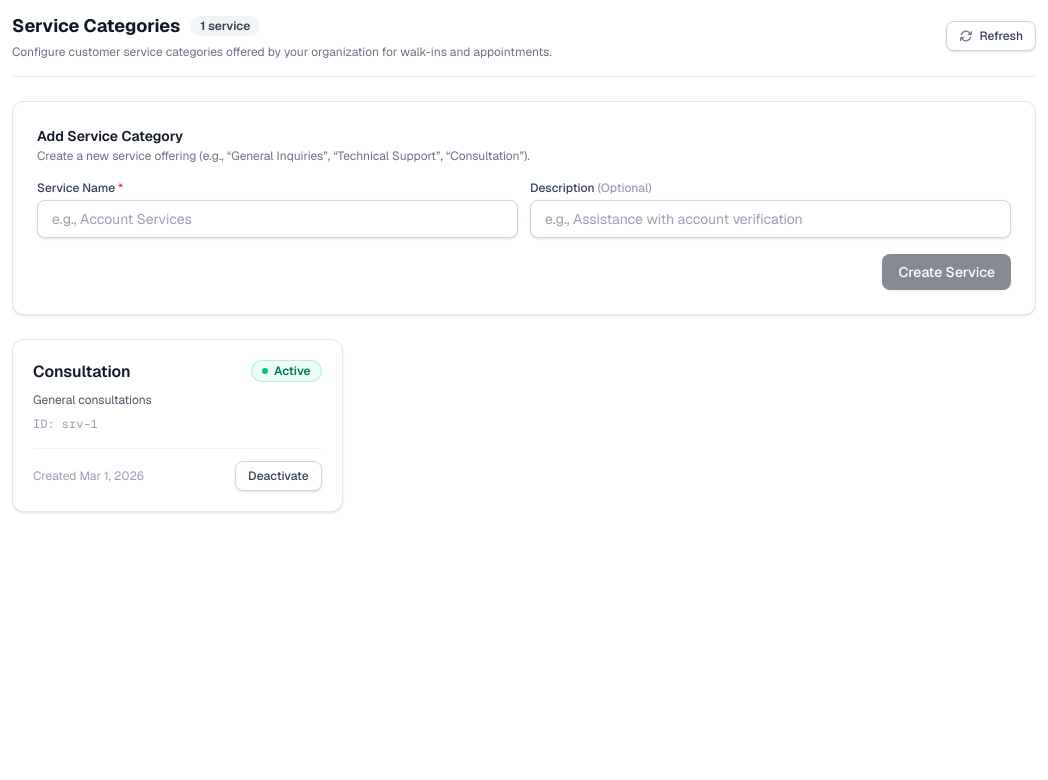
Scenario: components/admin/ServiceManagement › Service activation and deactivation controls › handles request failure without optimistic updates, keeping original status and displaying server error
The image size is (1048, 780).
Expected: the heading "Consultation" is shown, x1=33 y1=360 x2=131 y2=384
Expected: the text "Active" is shown, x1=251 y1=360 x2=322 y2=382
Click the button with aria-label "deactivate consultation" at [278, 476], box x1=235 y1=461 x2=322 y2=491
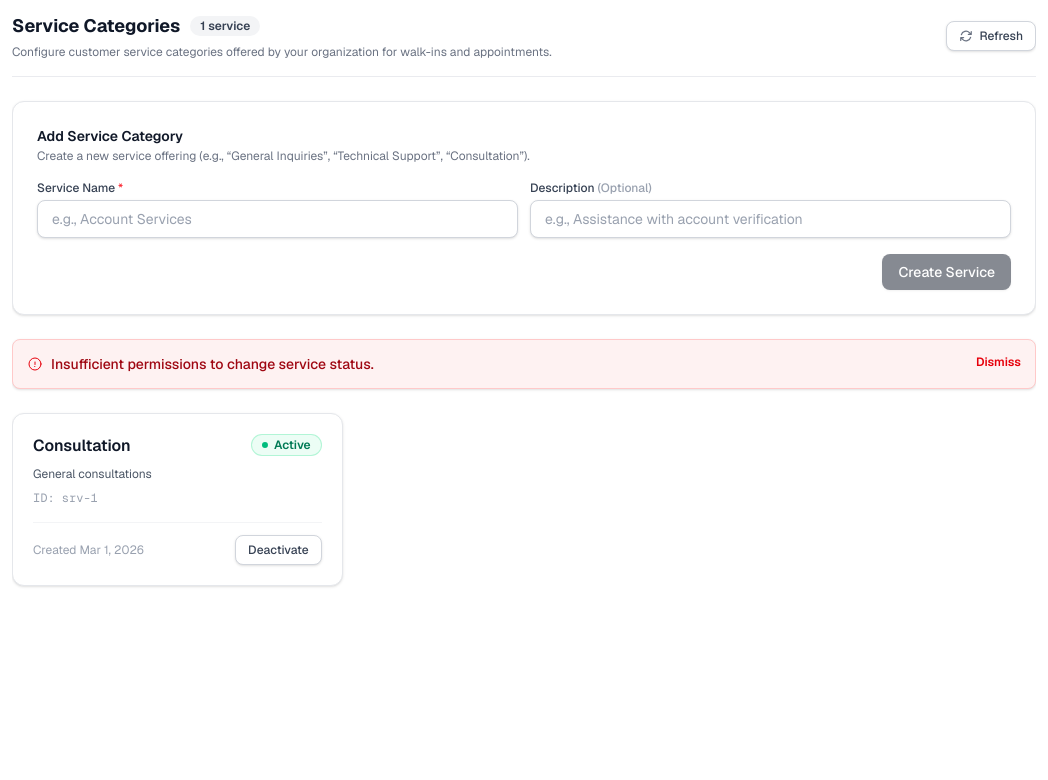
Expected: the text "Active" is shown, x1=251 y1=434 x2=322 y2=456
Expected: the text "Insufficient permissions to change service status." is shown, x1=51 y1=354 x2=374 y2=374
# Dismiss button clears the error alert
Click the button "Dismiss" at [998, 362], box x1=976 y1=354 x2=1021 y2=370
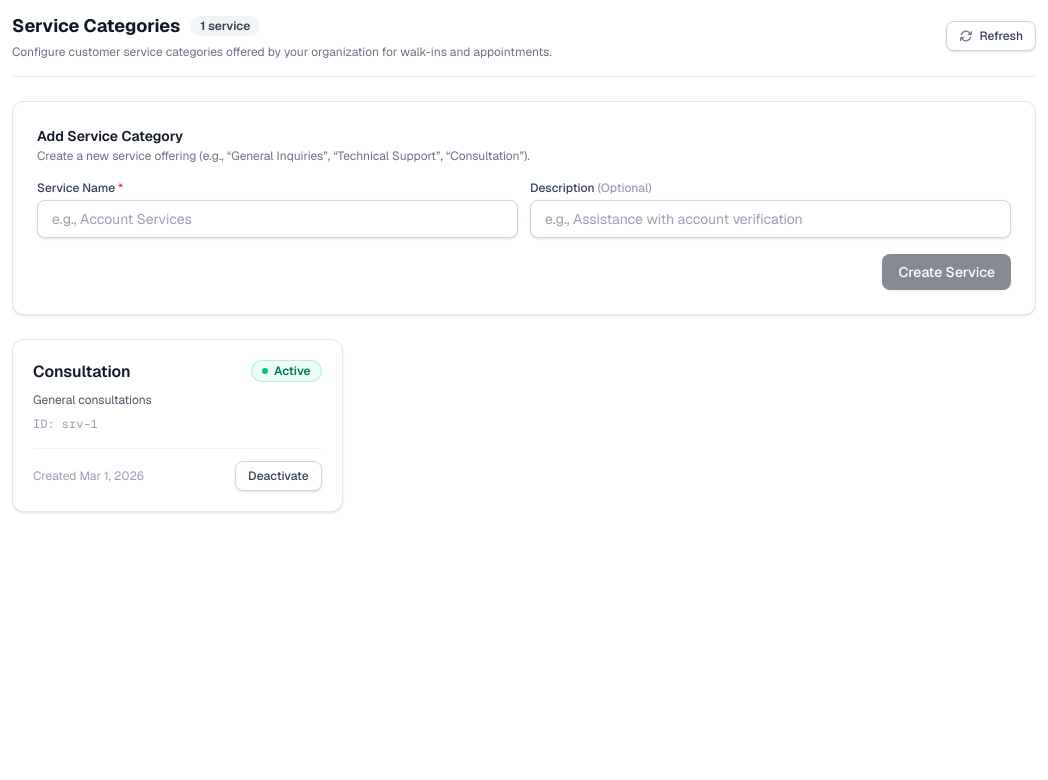
Expected: the text "Insufficient permissions to change service status." is gone
